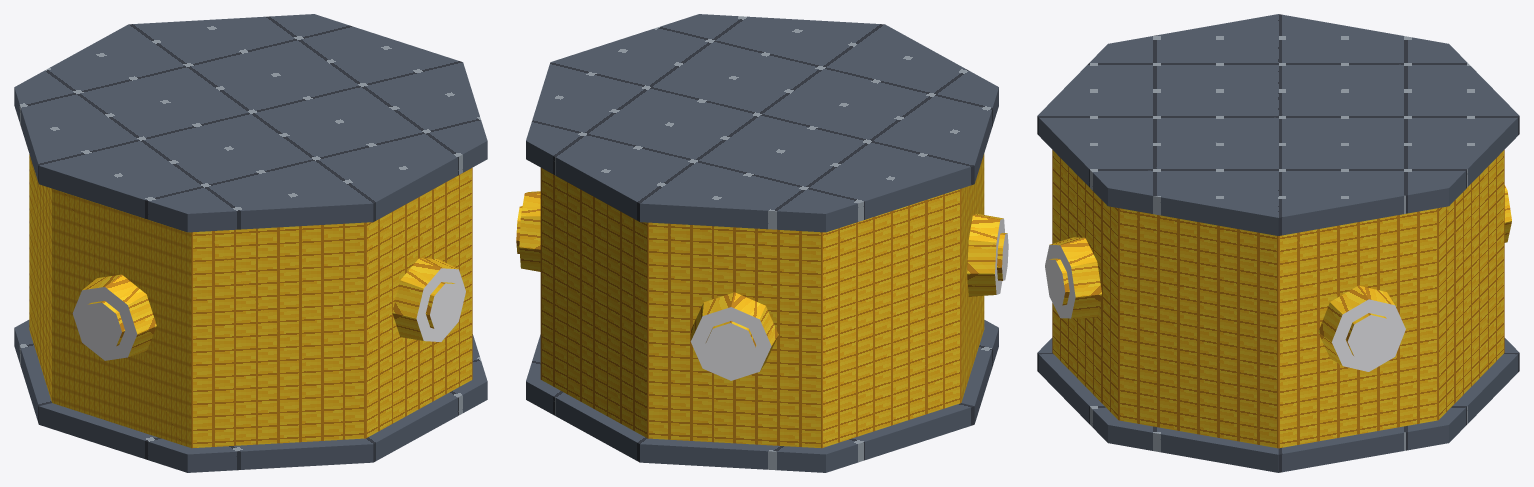
Rendered from bus_central.glb.
The picture shows the model from 3 angles, left to right: view 1: azimuth 30°, elevation 25°; view 2: azimuth 150°, elevation 25°; view 3: azimuth 270°, elevation 25°; orthographic projection.
Parts seen in each view (by area): view 1: bus_central; view 2: bus_central; view 3: bus_central.
Part boxes in pixels (<box>): bus_central: <box>14,14,487,472</box>; bus_central: <box>516,14,1008,472</box>; bus_central: <box>1037,14,1519,472</box>.
Size of the model in its own units: 0.96 by 0.56 by 0.96.
Materials: 3 (2 with a texture image).
